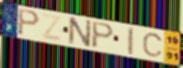C: (141, 32, 164, 58)
I: (127, 26, 135, 56)
N: (67, 16, 93, 49)
P: (90, 20, 116, 50), (16, 8, 42, 37)
Z: (41, 12, 63, 44)
